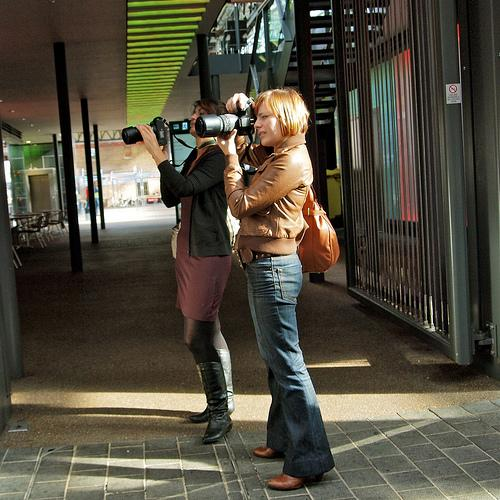person: (217, 90, 334, 491)
